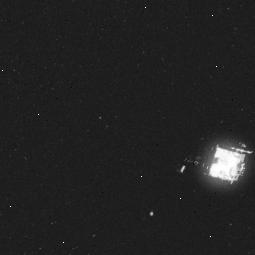lisa_pathfinder: (170, 131, 255, 202)
